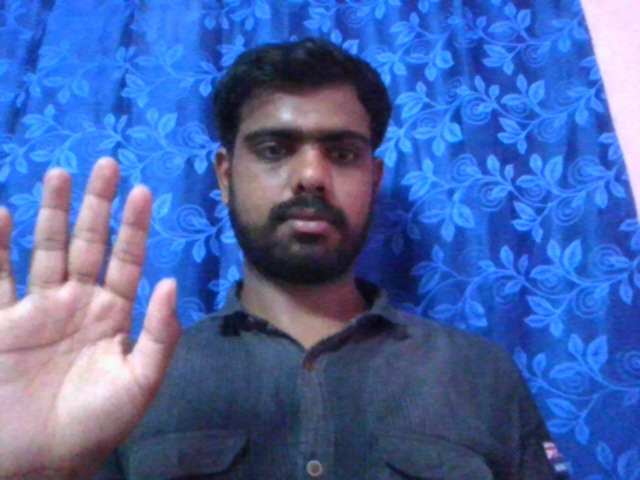Hello: (1, 155, 183, 456)
